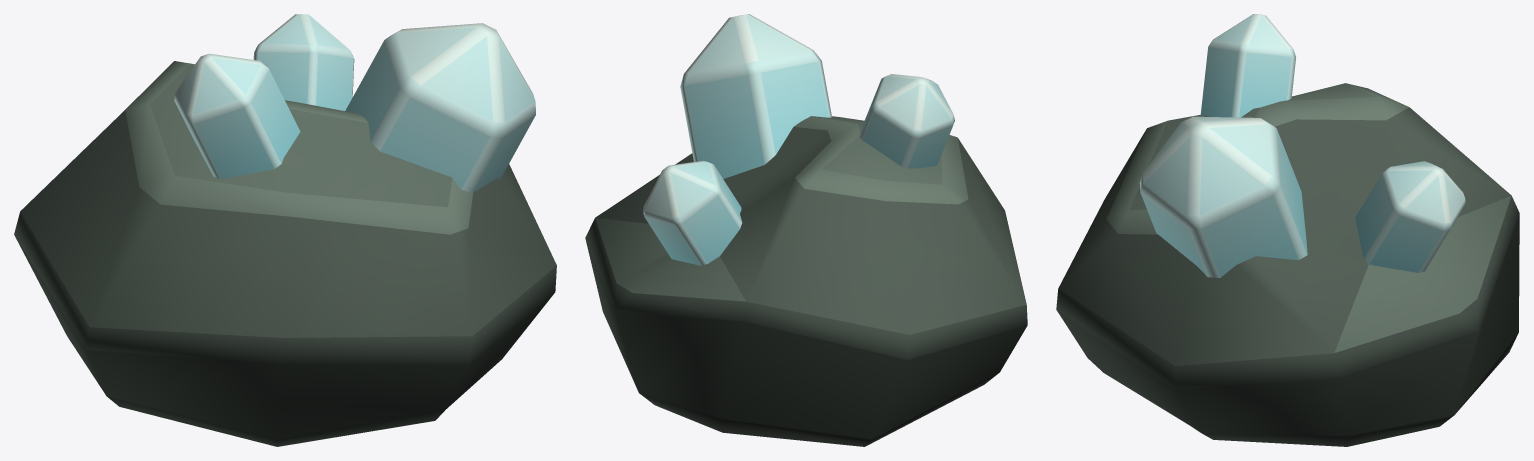
File: ore_christal_diamond_S.fbx
The picture shows the model from 3 angles, left to right: view 1: azimuth 30°, elevation 25°; view 2: azimuth 150°, elevation 25°; view 3: azimuth 270°, elevation 25°; orthographic projection. The views are drawn at different scales.
Parts seen in each view (by area): view 1: ore_christal_diamond_S; view 2: ore_christal_diamond_S; view 3: ore_christal_diamond_S.
Part boxes in pixels (x1,y1,x2,y2): ore_christal_diamond_S: (14,14,556,446); ore_christal_diamond_S: (585,14,1027,446); ore_christal_diamond_S: (1056,14,1519,446).
Size of the model in its own units: 115 by 96.07 by 110.
Materials: 1 (1 with a texture image).
